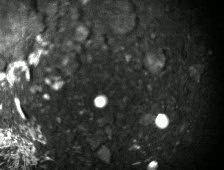corn: (92, 93, 110, 111), (155, 112, 172, 131), (145, 159, 160, 170)
